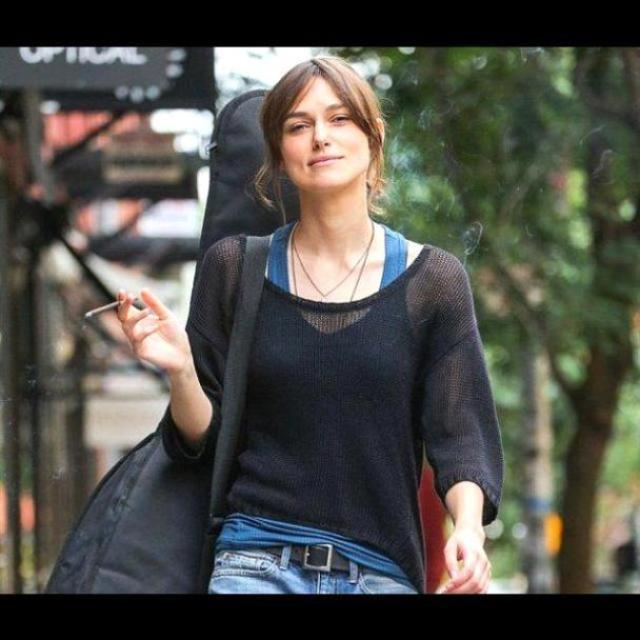rokok: (80, 291, 142, 323)
